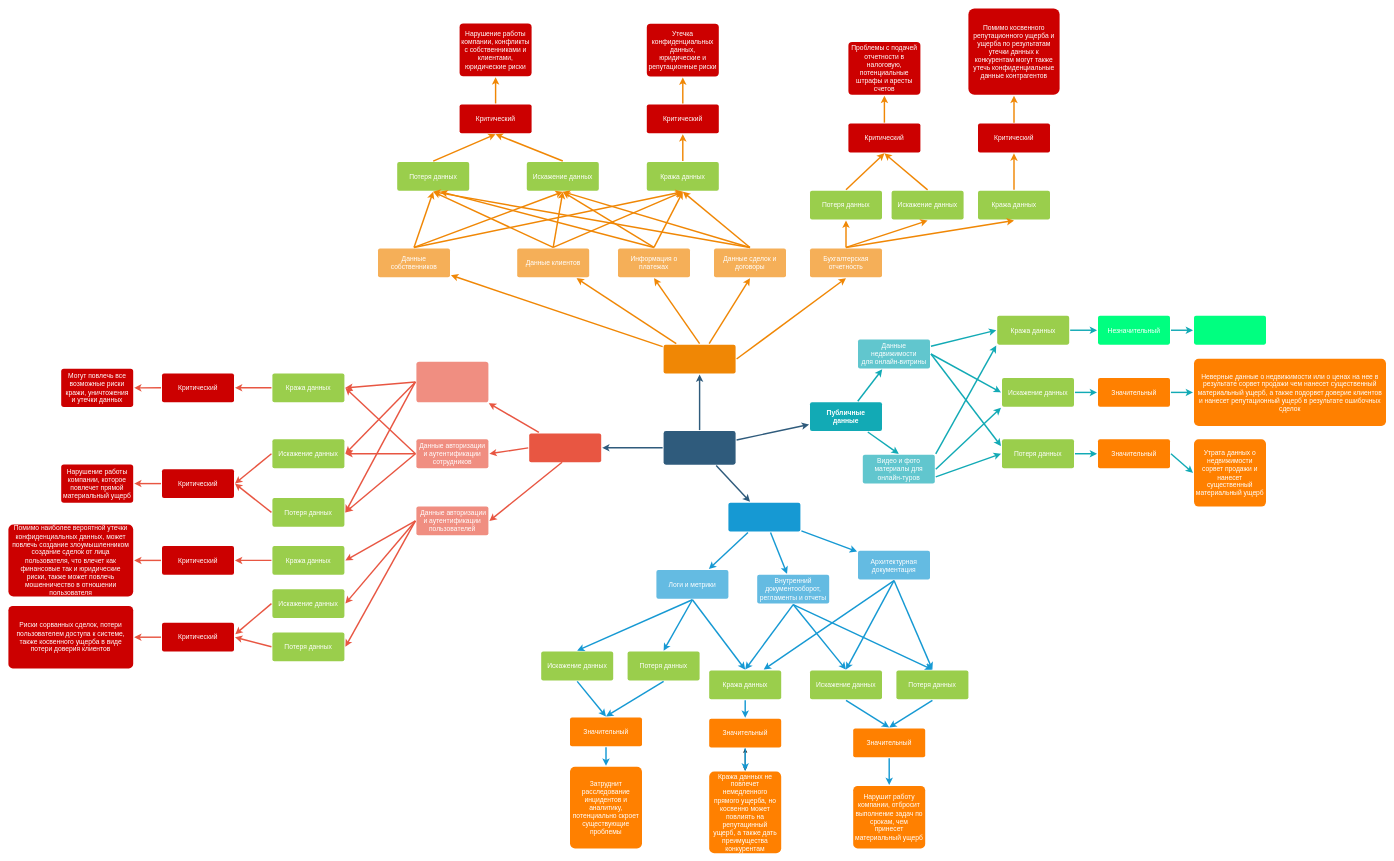
This 1394x861 diagram has some shape labels left out. The shapes that lost their labels are listed below. From the top down, each one's centre as x and y in pixels, then its label:
At (1230,330): "Публичные данные доступные для всех".
At (699,358): "Конфиденциальные данные".
At (452,381): "Ключи шифрования, продовые пароли, приватные сертификаты, api-ключи".
At (565,447): "Секретные данные".
At (699,447): "Безопасность данных".
At (764,517): "Внутренние данные".
